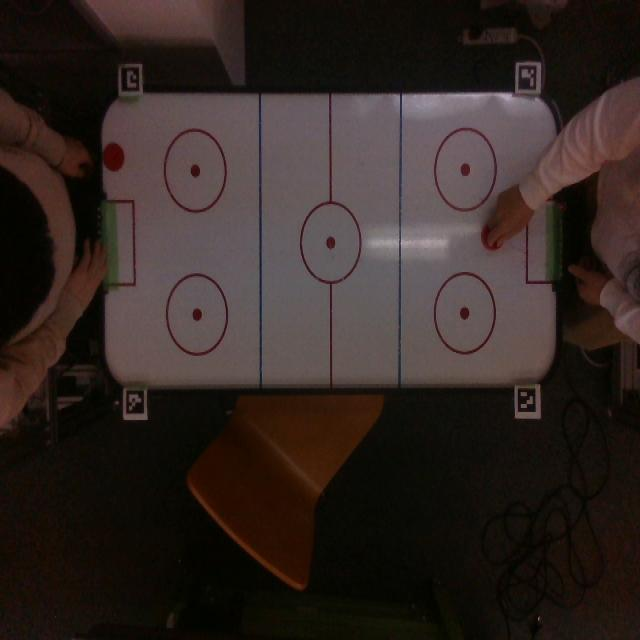puck: (103, 142, 125, 171)
